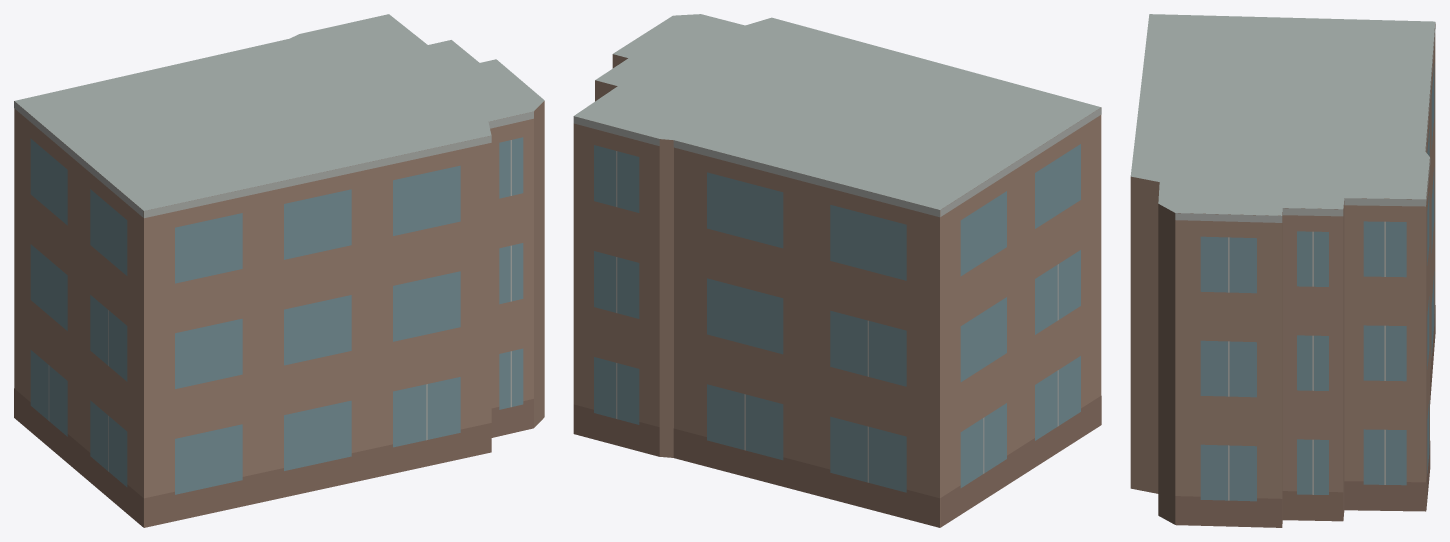
File: survey-upis-32917097.glb
3 renders of one model, left to right at view 1: azimuth 30°, elevation 25°; view 2: azimuth 150°, elevation 25°; view 3: azimuth 270°, elevation 25°, orthographic.
Visible parts, largest first — view 1: survey-upis-32917097.tmp; view 2: survey-upis-32917097.tmp; view 3: survey-upis-32917097.tmp.
Boxes of the visible parts, bbox=[...] form: survey-upis-32917097.tmp: bbox=[14, 14, 544, 527]; survey-upis-32917097.tmp: bbox=[573, 14, 1101, 527]; survey-upis-32917097.tmp: bbox=[1130, 14, 1435, 527].
Bounding box in the file's own units: 14.71 × 10.6 × 9.39.
